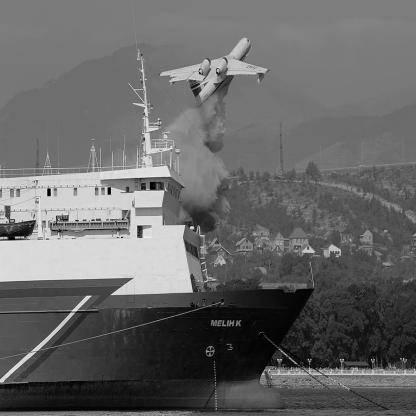Be200: (158, 38, 271, 110)
